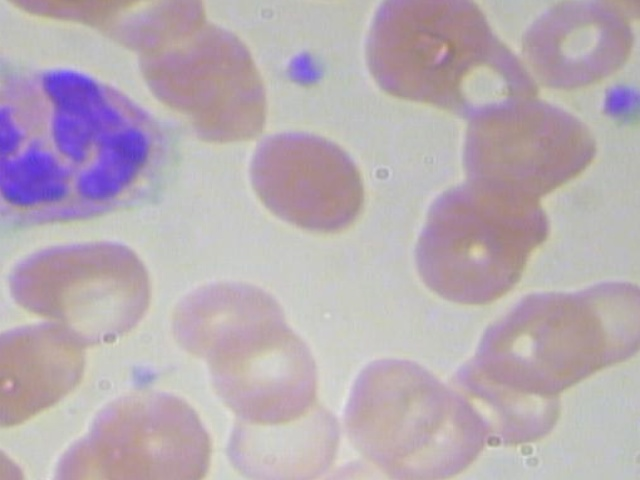Platelets: (273, 44, 327, 95), (600, 74, 640, 126)
RBC: (224, 126, 386, 244), (448, 98, 605, 201), (196, 315, 328, 434), (330, 351, 461, 463), (473, 279, 604, 391), (128, 7, 259, 118), (214, 372, 347, 480), (5, 231, 155, 322), (0, 309, 106, 436), (409, 205, 535, 309), (84, 384, 218, 480), (519, 0, 640, 98), (165, 265, 288, 356), (0, 421, 33, 480), (0, 0, 1, 100)
WBC: (0, 62, 186, 239)
